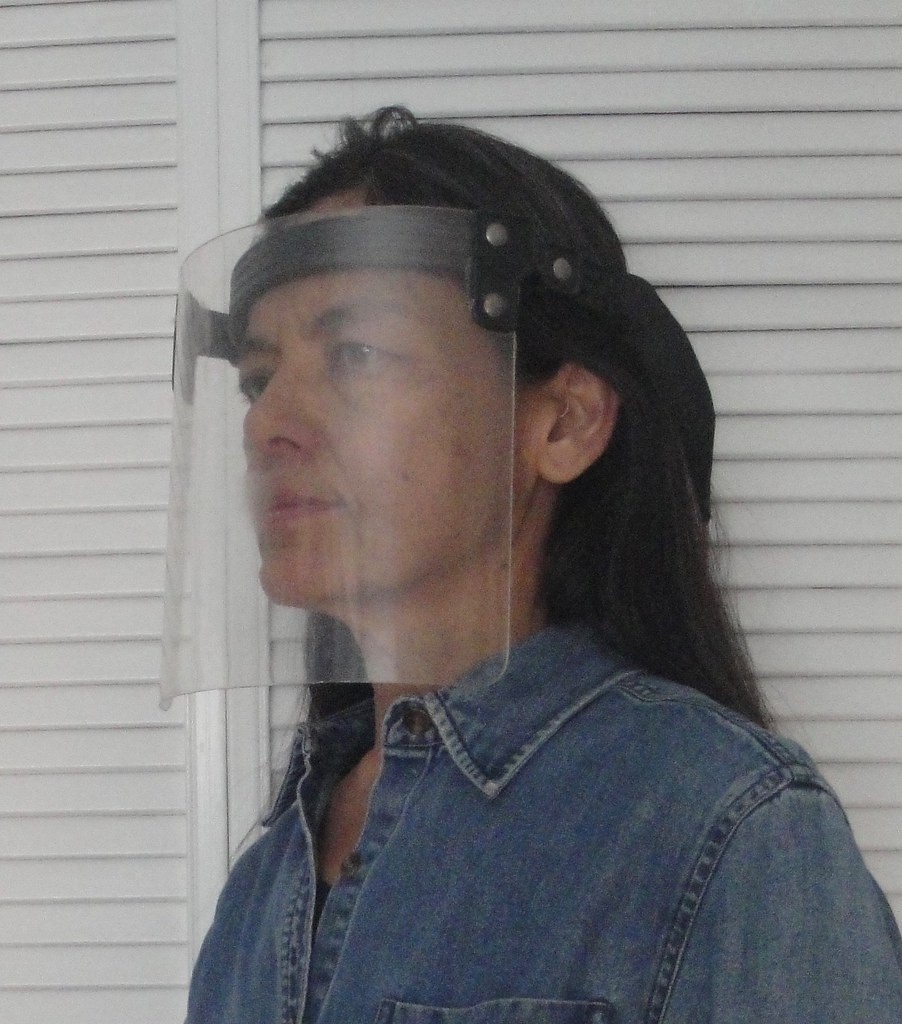face_no_mask: (226, 202, 538, 624)
